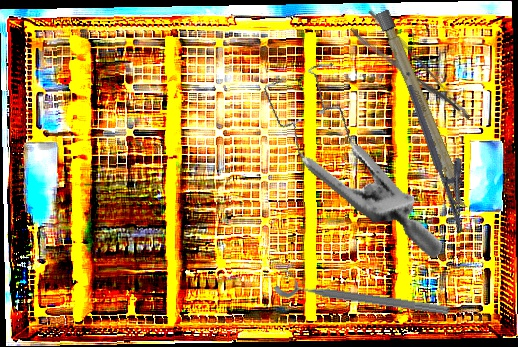Dressing Forceps: (349, 7, 473, 138)
Fixation Ring: (271, 266, 453, 321)
Needle Holder: (405, 77, 485, 234)
Scalpel Handle: (375, 9, 472, 211)
Speculum: (230, 46, 486, 259)
